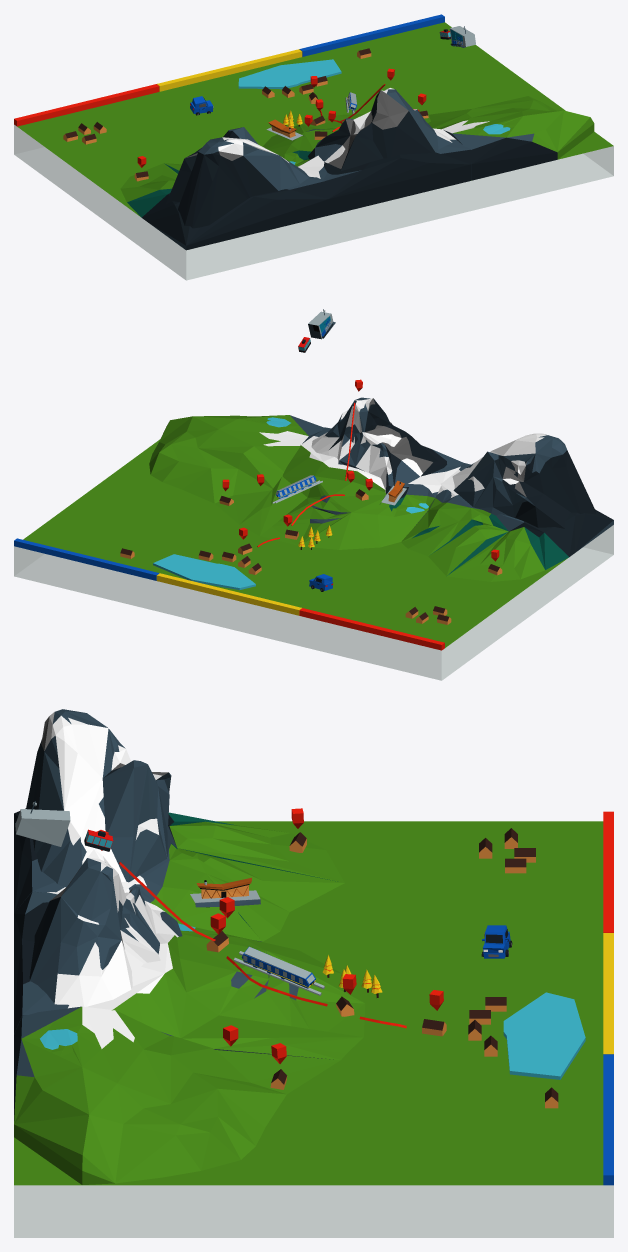
3 views of the same model, one above another, from view 1: azimuth 30°, elevation 25°; view 2: azimuth 150°, elevation 25°; view 3: azimuth 270°, elevation 25° (orthographic). The views are drawn at different scales.
Parts seen in each view (by area): view 1: group205372028, group932165243, group2126993567, group475224936, group1845701592, group387115814, group1113799402, group1265028055, group124410273, group512773198, group1202069558, group826367854; view 2: group205372028, group932165243, group2126993567, group475224936, group1845701592, group387115814, group1113799402, group1265028055, group124410273, group512773198, group2089938704, group1202069558; view 3: group205372028, group2126993567, group932165243, group475224936, group1845701592, group387115814, group1113799402, group1202069558, group2089938704, group512773198, group826367854, group1265028055 (+2 smaller).
Part boxes in pixels (x1,y1,x2,y2): group205372028: (14, 22, 613, 280); group932165243: (262, 113, 470, 215); group2126993567: (424, 96, 594, 180); group475224936: (120, 163, 328, 250); group1845701592: (166, 127, 309, 228); group387115814: (308, 88, 452, 170); group1113799402: (238, 59, 341, 89); group1265028055: (14, 84, 159, 126); group124410273: (157, 49, 302, 91); group512773198: (299, 14, 444, 56); group1202069558: (449, 26, 475, 47); group826367854: (266, 119, 303, 140); group205372028: (14, 439, 613, 680); group932165243: (239, 427, 463, 549); group2126993567: (149, 415, 323, 524); group475224936: (401, 463, 613, 581); group1845701592: (452, 433, 595, 528); group387115814: (311, 397, 437, 498); group1113799402: (153, 554, 255, 590); group1265028055: (299, 608, 444, 650); group124410273: (156, 573, 301, 615); group512773198: (14, 538, 159, 580); group2089938704: (272, 475, 322, 503); group1202069558: (308, 309, 335, 339); group205372028: (14, 821, 613, 1237); group2126993567: (14, 1006, 340, 1184); group932165243: (14, 891, 365, 1059); group475224936: (14, 808, 344, 941); group1845701592: (26, 709, 171, 887); group387115814: (29, 849, 182, 1006); group1113799402: (503, 992, 585, 1079); group1202069558: (15, 801, 70, 846); group2089938704: (233, 946, 324, 995); group512773198: (603, 1054, 613, 1185); group826367854: (190, 877, 260, 907); group1265028055: (603, 811, 613, 932).
Bounding box in the file's own units: 6.37 × 2.57 × 4.44.
